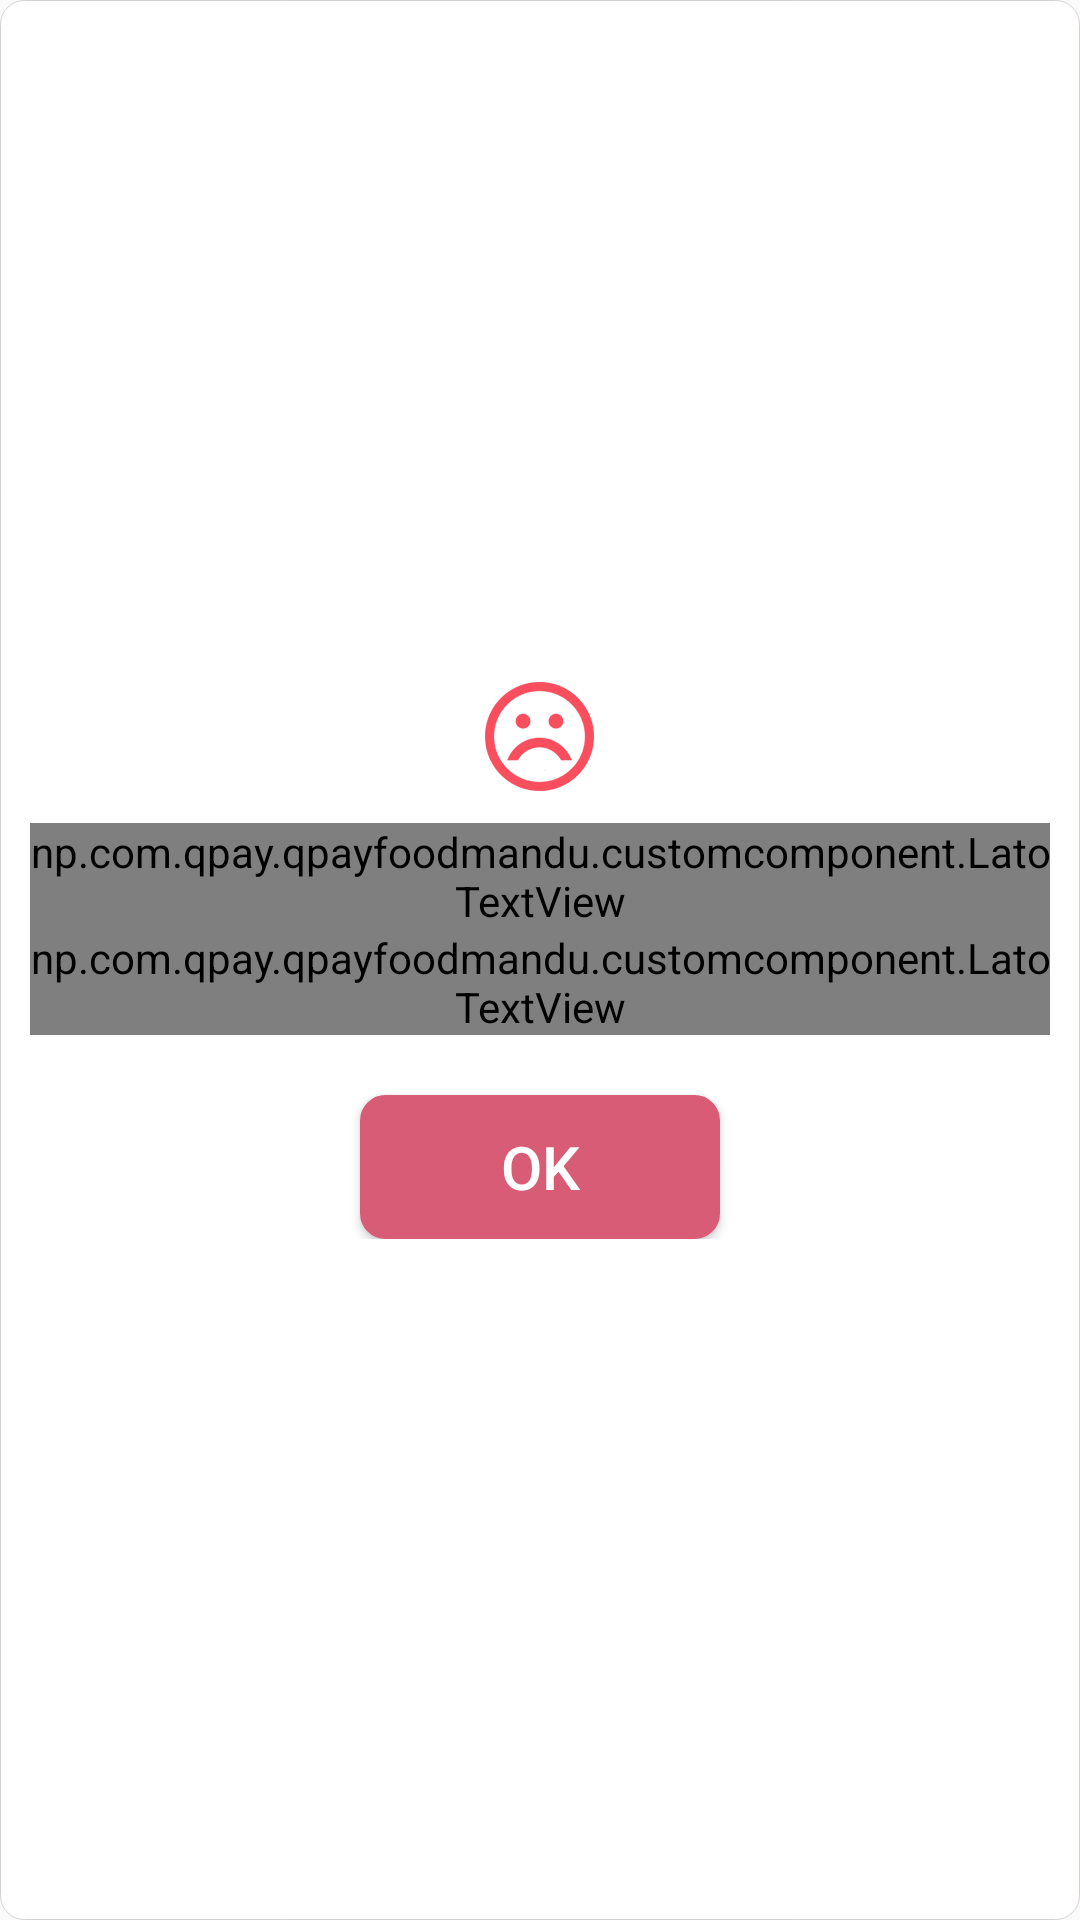

Screen size 1080px×1920px. Icon name, then its box in pixels as (x1, y1, x2, y2):
sad: (485, 682, 594, 791)
